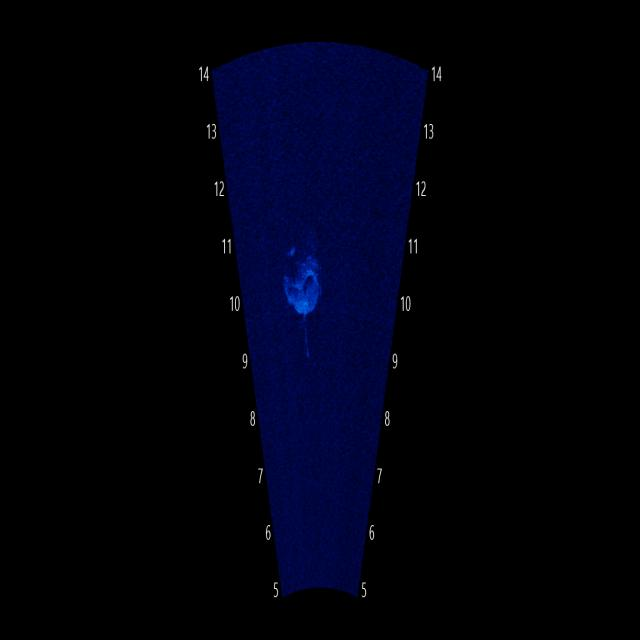circle: (272, 220, 332, 329)
